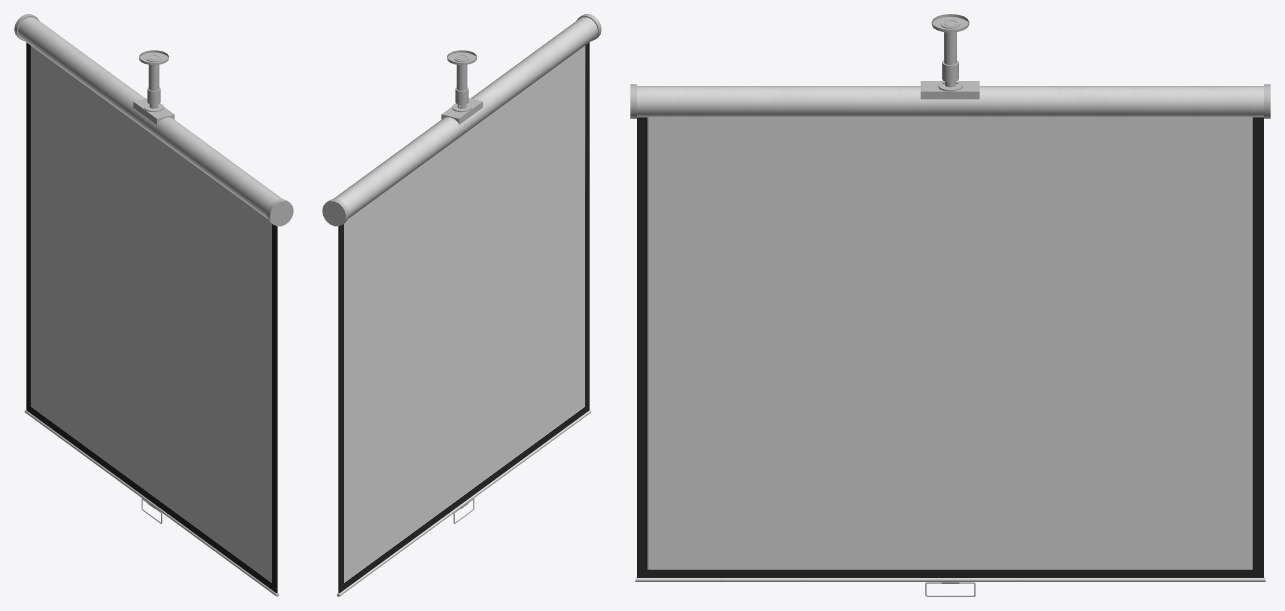
The model's file is SM_HangingScreen_01.fbx.
3 renders of one model, left to right at view 1: azimuth 30°, elevation 25°; view 2: azimuth 150°, elevation 25°; view 3: azimuth 270°, elevation 25°, orthographic. The views are drawn at different scales.
Parts seen in each view (by area): view 1: SM_HangingScreen_01_LOD0; view 2: SM_HangingScreen_01_LOD0; view 3: SM_HangingScreen_01_LOD0.
Boxes of the visible parts, bbox=[...] form: SM_HangingScreen_01_LOD0: bbox=[14, 14, 293, 596]; SM_HangingScreen_01_LOD0: bbox=[322, 14, 601, 596]; SM_HangingScreen_01_LOD0: bbox=[630, 14, 1270, 596].
Bounding box in the file's own units: 11.97 × 204 × 203.
